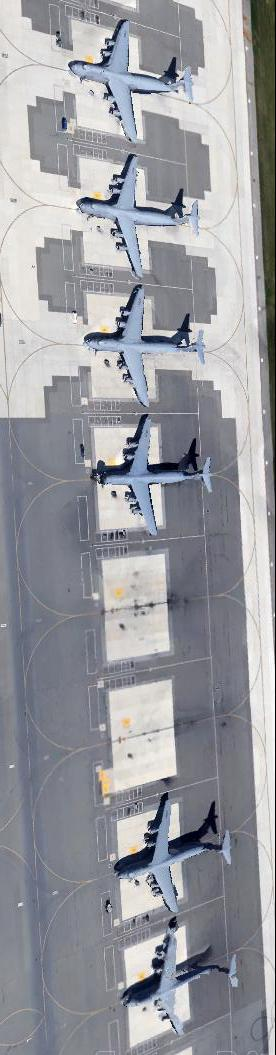C-17: (75, 154, 205, 283), (67, 17, 196, 146), (85, 280, 211, 412), (111, 797, 234, 925), (93, 415, 219, 539), (122, 927, 245, 1046)
